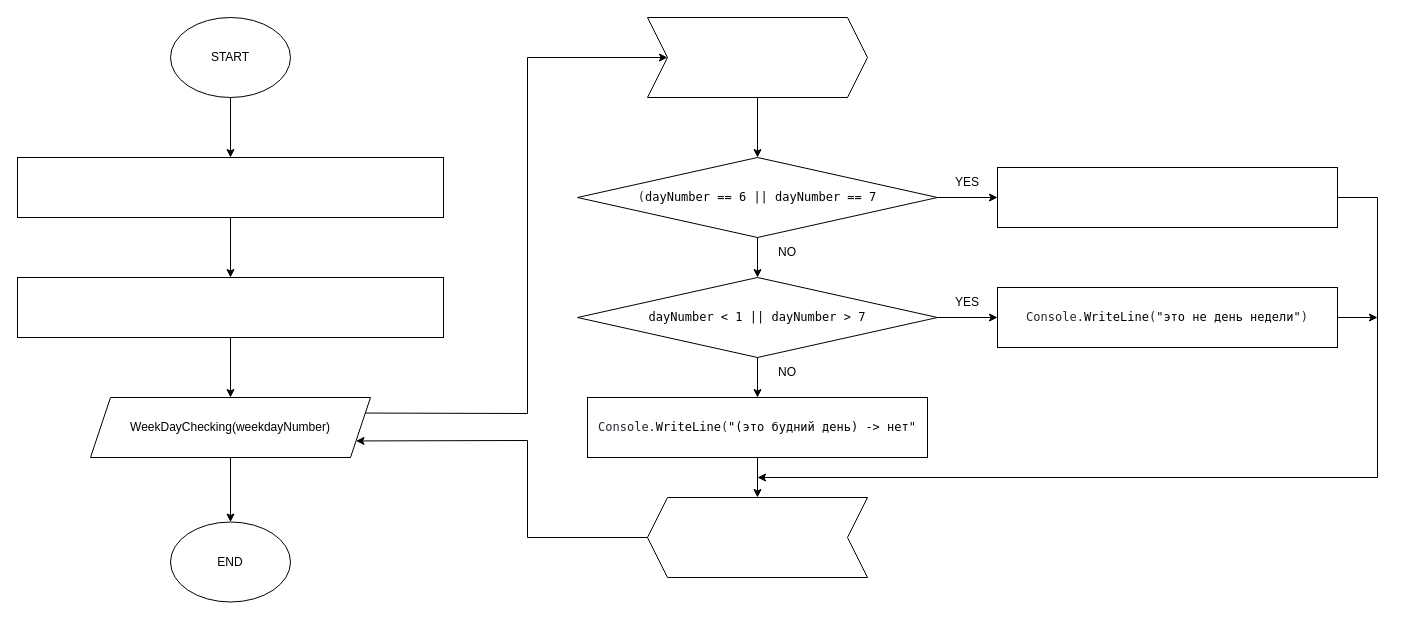
The diagram is 1403 pixels wide and 620 high, and some of its shapes have lost their labels. Here are the shapes that lost their labels. From the top down, the box of each, then its label:
(646, 16, 868, 98): dayNumber = weekdayNumber
(16, 156, 444, 218): Console.WriteLine("Введите цифру, соответствующую дню недели: ")
(996, 166, 1338, 228): Console . WriteLine ( " (этот день выходной) -> да " )
(16, 276, 444, 338): int weekdayNumber = Convert.ToInt32(Console.ReadLine())
